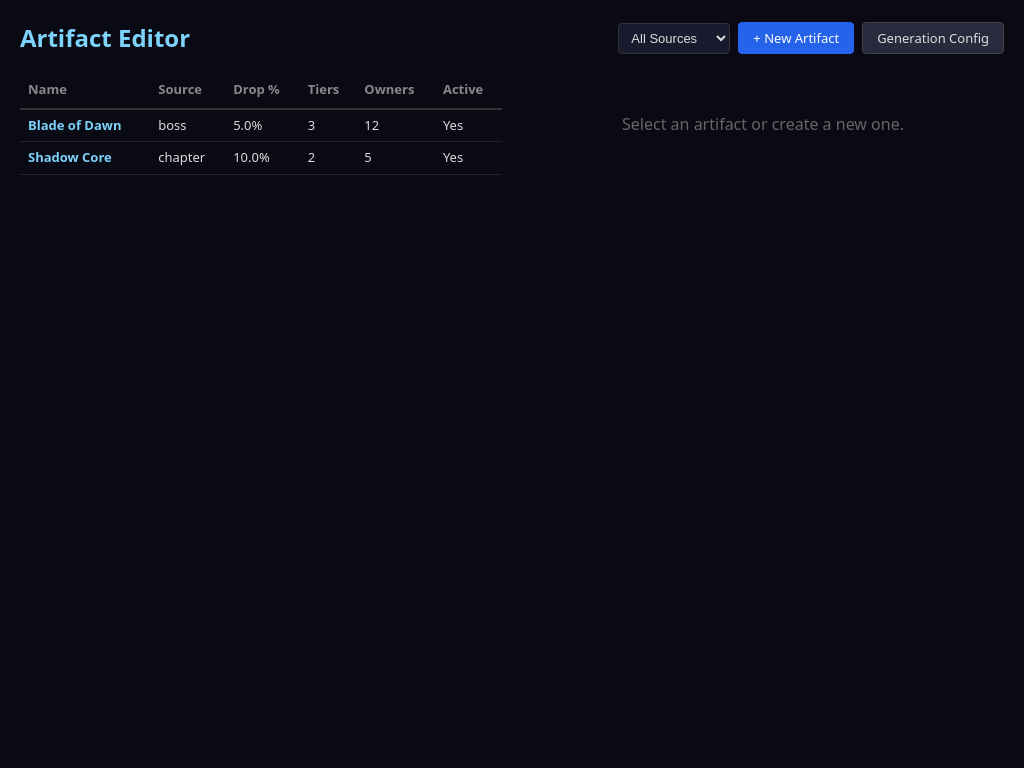
ArtifactEditor › loads detail on row click
Step 1. Click the text "Blade of Dawn" → point(85, 125), box [20,108,150,142]
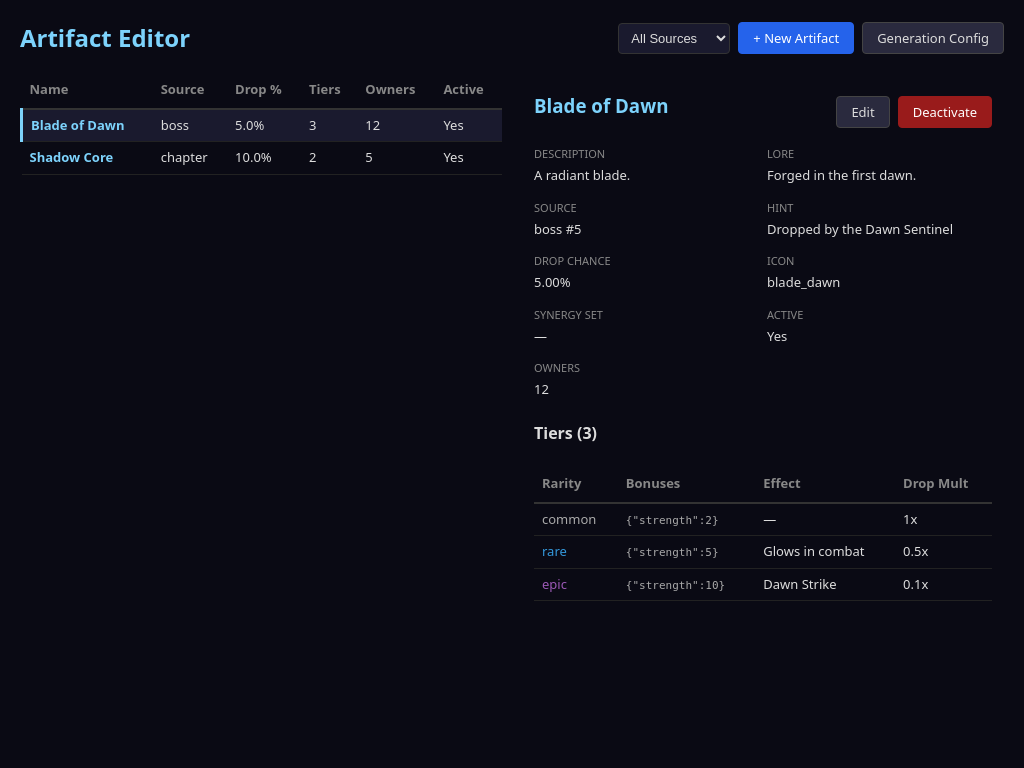
Expected: the text "Forged in the first dawn." is shown, [767,166,916,184]
